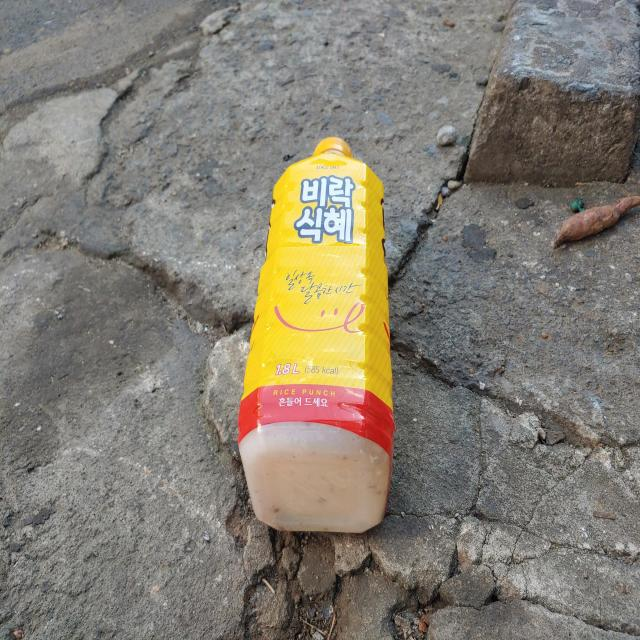plastic: (238, 136, 395, 533)
